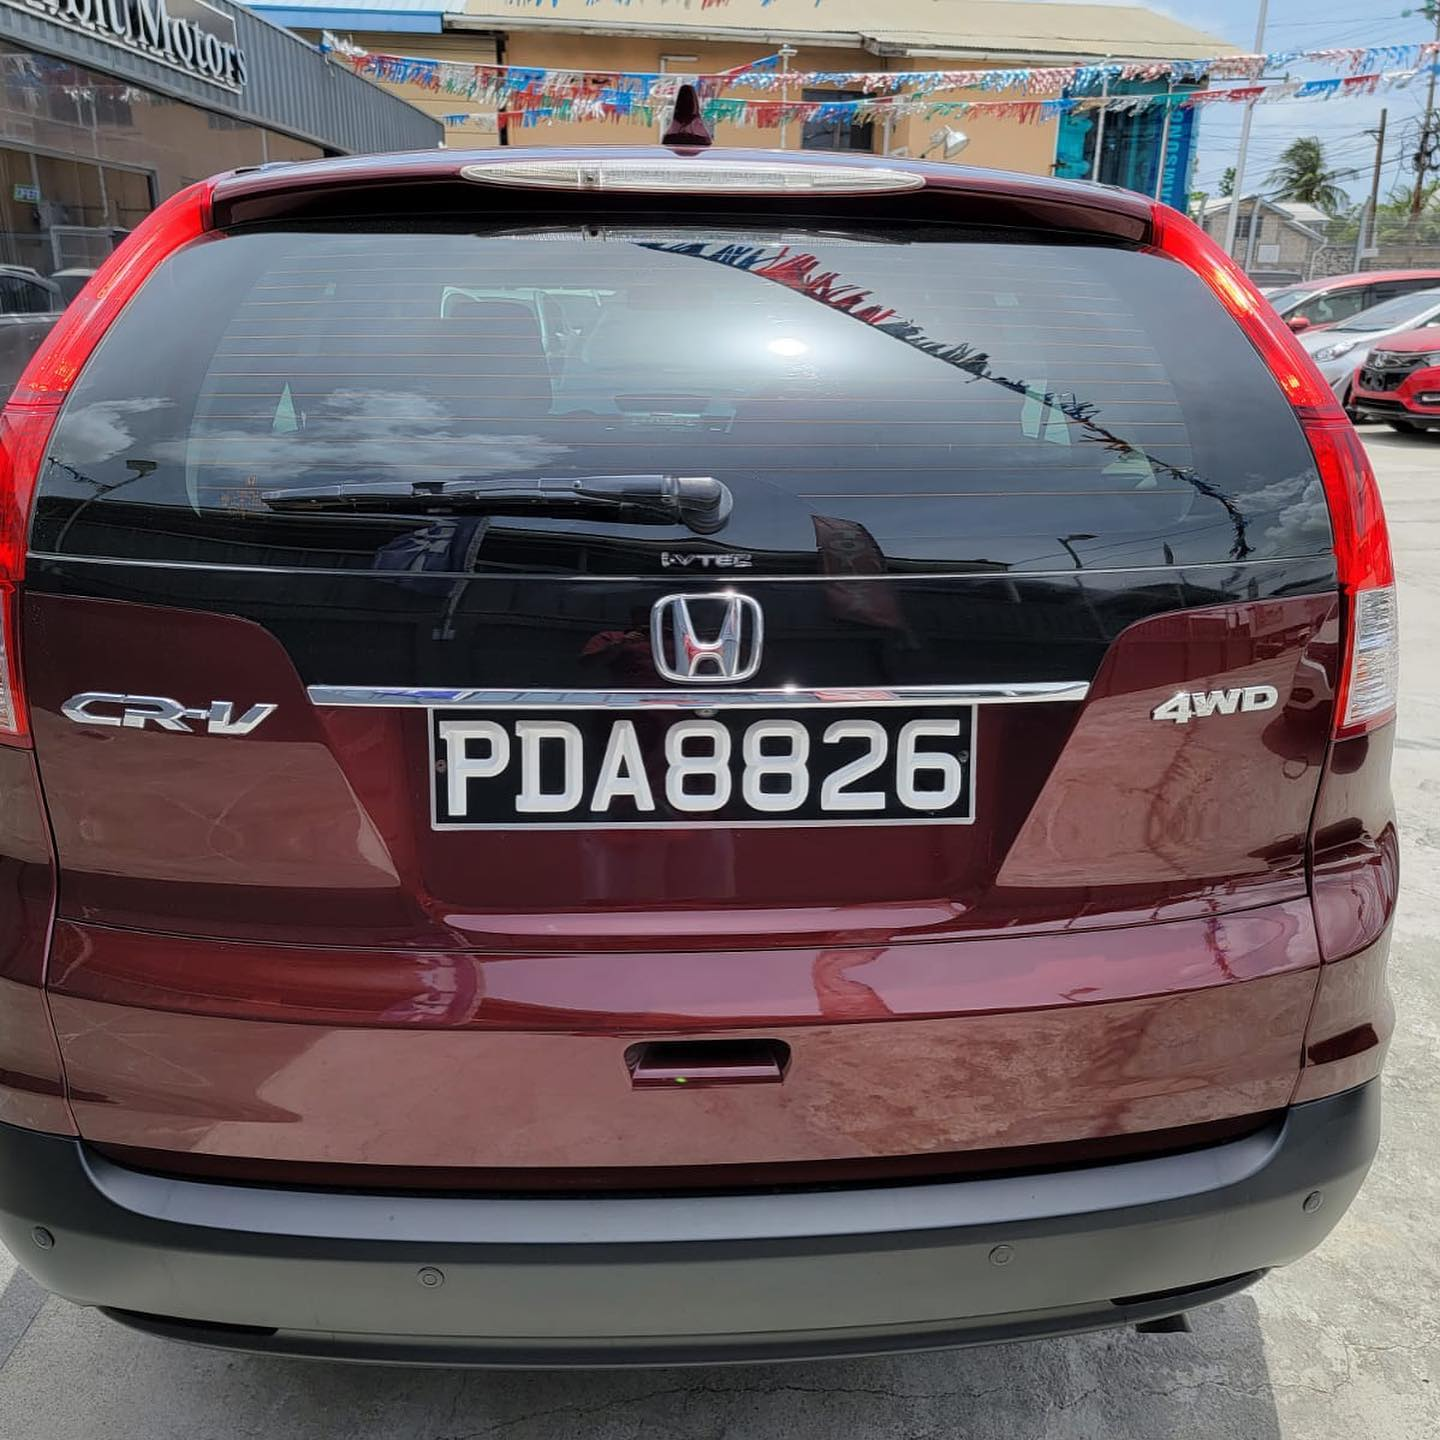License-Plate: (430, 715, 970, 822)
